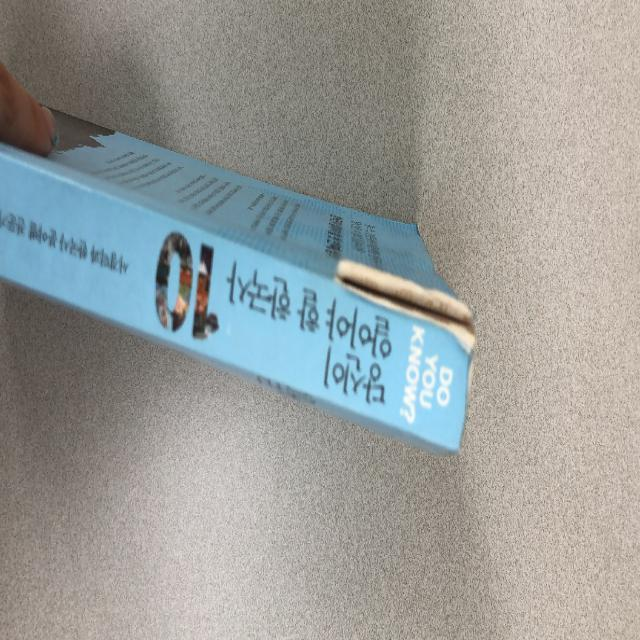Ripped: (334, 256, 478, 356)
Wornout: (462, 357, 477, 407)
